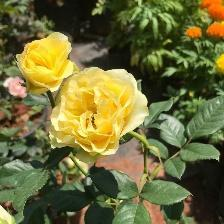rose: (59, 64, 146, 156), (17, 33, 76, 87), (3, 79, 32, 100)
